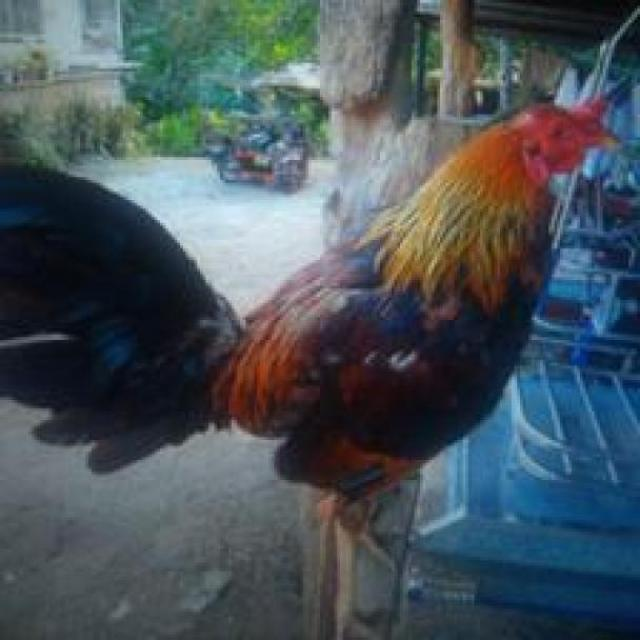Chicken: (2, 70, 640, 627)
